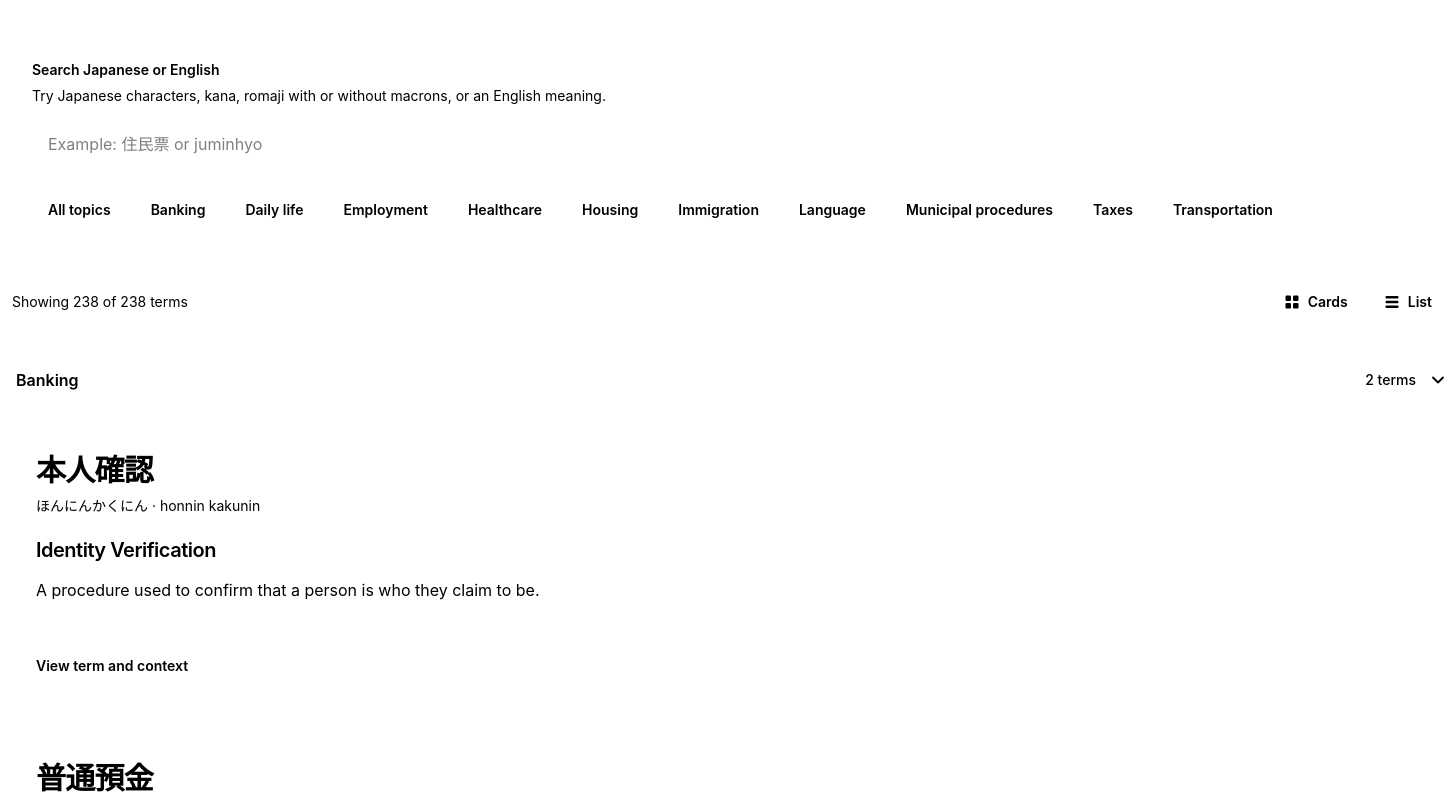
Test: list view on group and glossary pages › lists glossary terms with the same entries as the cards
The width and height of the screenshot is (1452, 804).
Step 1. Click the button "List" → (1408, 302), box [1368, 280, 1448, 324]
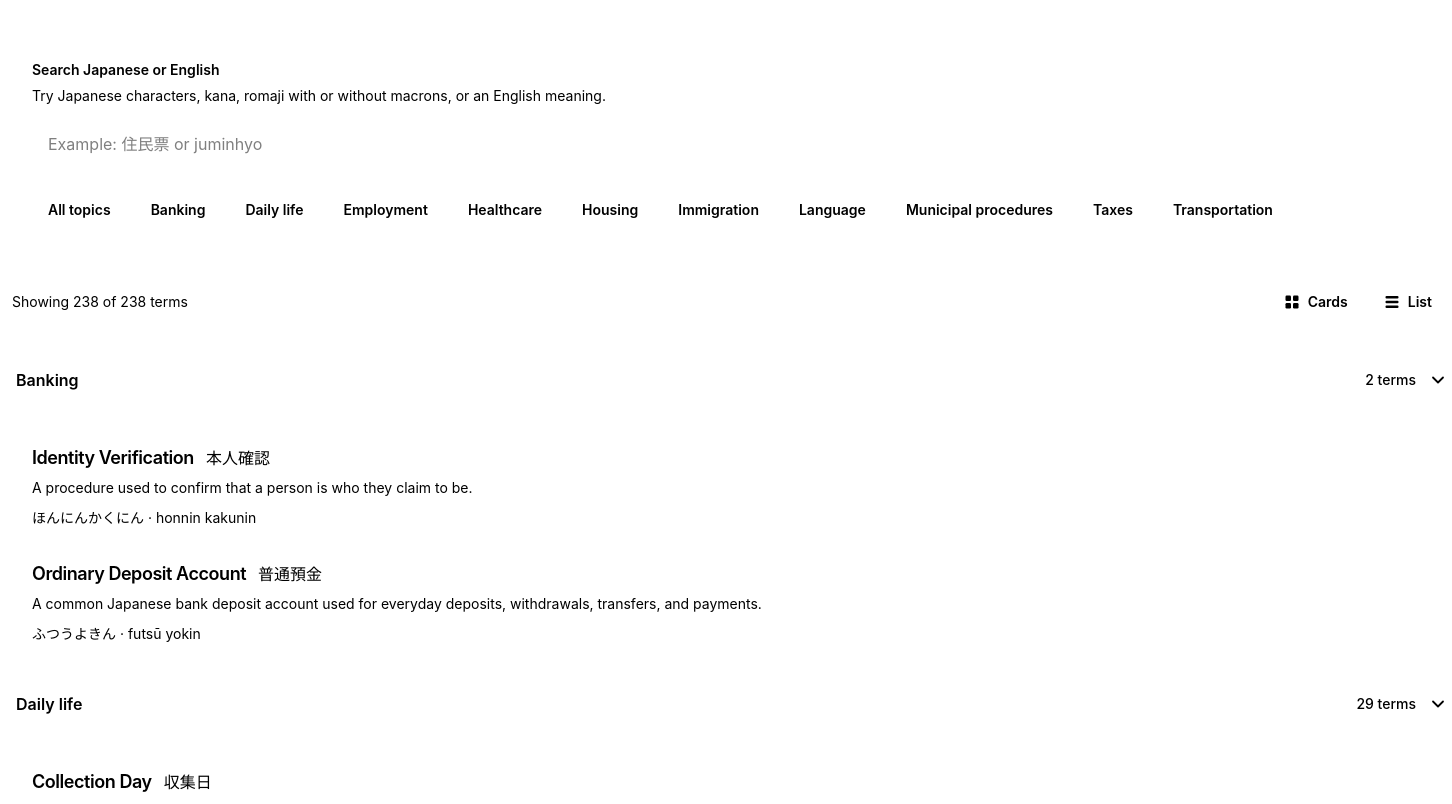
Check: the list that starts with "Identity Verification" is shown, box [32, 447, 762, 642]
